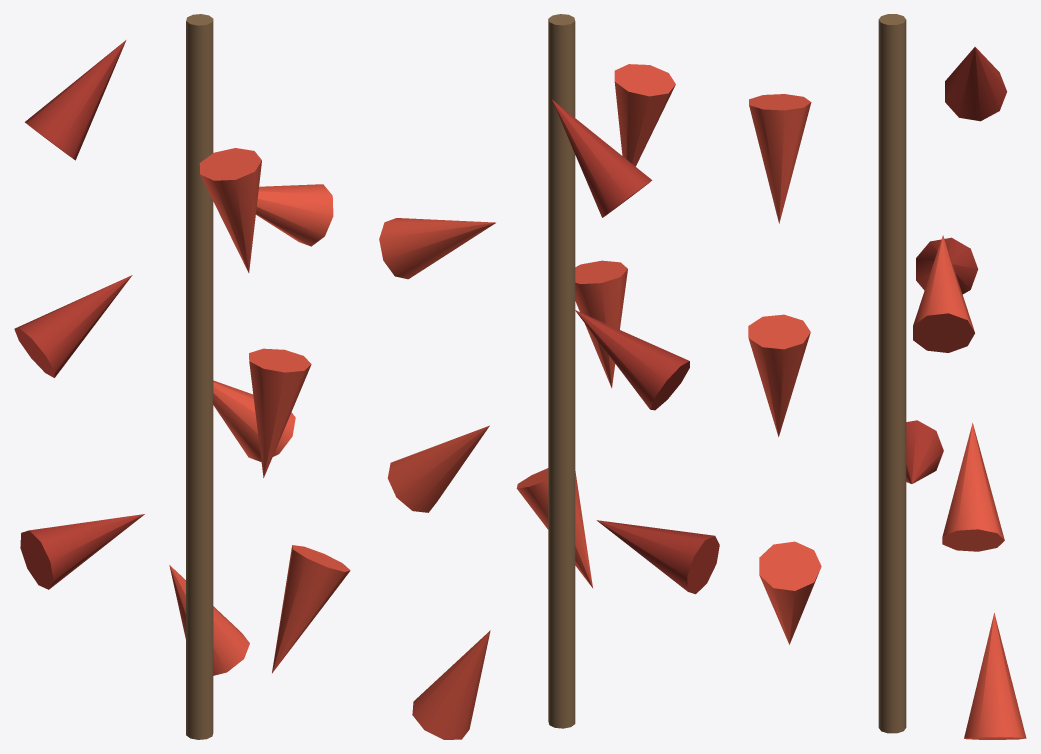
Rendered from wok_prop_chili_string_2.glb.
3 renders of one model, left to right at view 1: azimuth 30°, elevation 25°; view 2: azimuth 150°, elevation 25°; view 3: azimuth 270°, elevation 25°, orthographic.
Size of the model in its own units: 0.1544 by 0.34 by 0.121.
